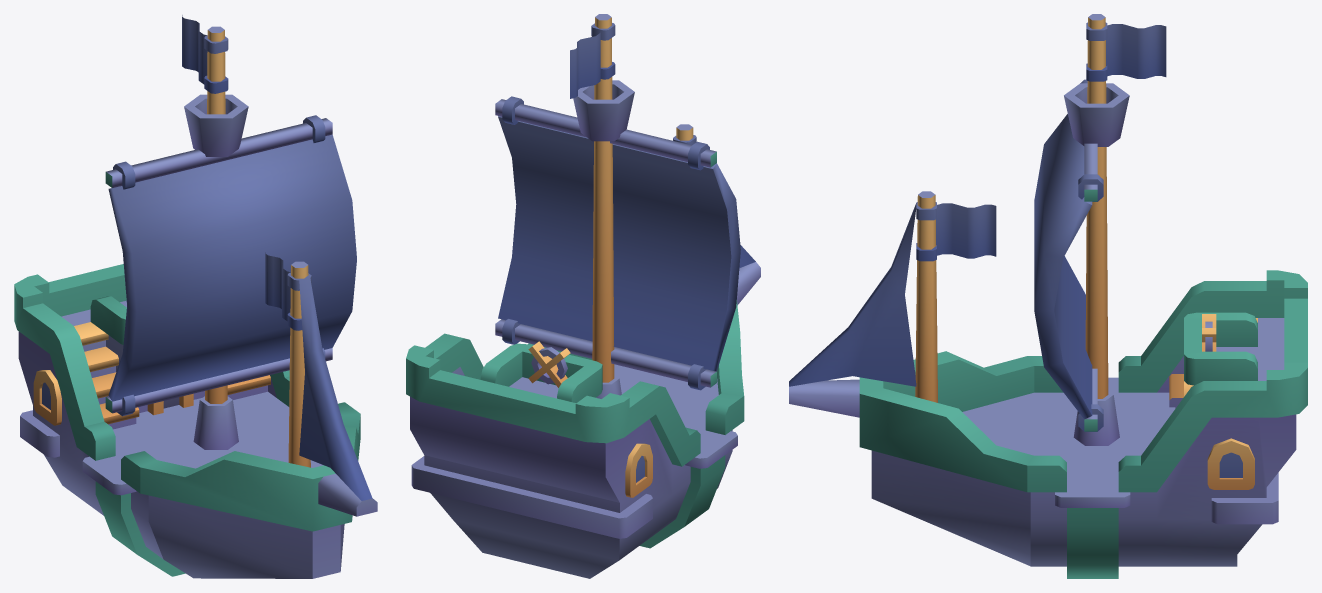
The model's file is ship-small.fbx.
The picture shows the model from 3 angles, left to right: view 1: azimuth 30°, elevation 25°; view 2: azimuth 150°, elevation 25°; view 3: azimuth 270°, elevation 25°; orthographic projection. The views are drawn at different scales.
Parts seen in each view (by area): view 1: ship-small, sail-a, flag-b, flag-a; view 2: ship-small, sail-a, flag-b; view 3: ship-small, sail-a, flag-a, flag-b.
Part boxes in pixels (x1=…): ship-small: x1=14, y1=26, x2=377, y2=578; sail-a: x1=105, y1=115, x2=356, y2=416; flag-b: x1=182, y1=15, x2=228, y2=93; flag-a: x1=265, y1=252, x2=311, y2=330; ship-small: x1=406, y1=14, x2=760, y2=578; sail-a: x1=495, y1=96, x2=740, y2=390; flag-b: x1=570, y1=23, x2=615, y2=98; ship-small: x1=789, y1=14, x2=1307, y2=578; sail-a: x1=1034, y1=79, x2=1103, y2=431; flag-a: x1=916, y1=202, x2=996, y2=261; flag-b: x1=1086, y1=22, x2=1166, y2=81.
Size of the model in its own units: 480 by 996 by 880.
